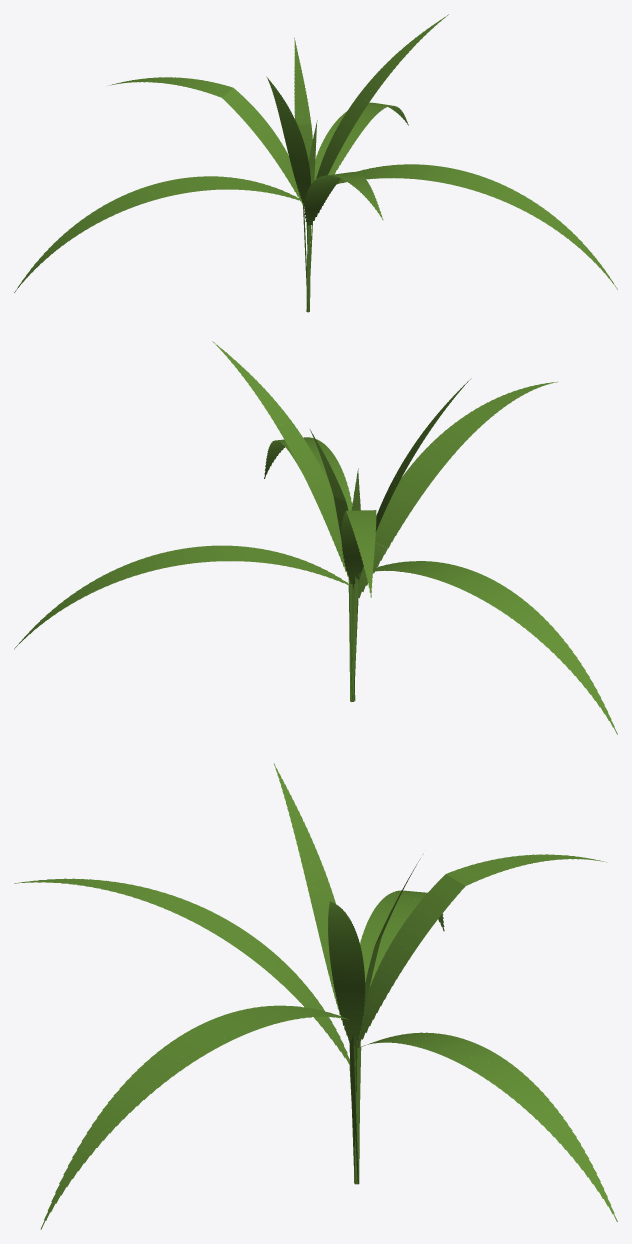
The model's file is maize_001_day_070.dae.
3 views of the same model, one above another, from view 1: azimuth 30°, elevation 25°; view 2: azimuth 150°, elevation 25°; view 3: azimuth 270°, elevation 25° (orthographic). The views are drawn at different scales.
Visible parts, largest first — view 1: node; view 2: node; view 3: node.
Part boxes in pixels (left/top/right/bottom): node: left=14, top=14, right=617, bottom=312; node: left=14, top=341, right=617, bottom=734; node: left=14, top=763, right=617, bottom=1229.
Size of the model in its own units: 1.07 by 0.6129 by 0.9004.
Materials: 1 (1 with a texture image).
